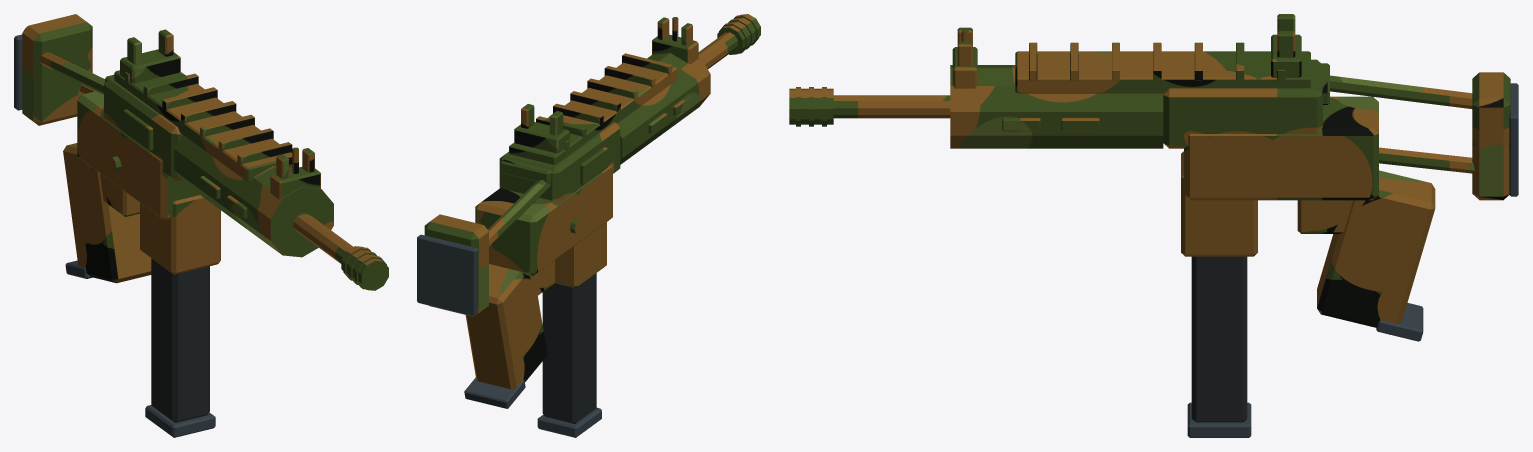
Rendered from MPX_RuralCamo.glb.
3 views of the same model, side by side, from view 1: azimuth 30°, elevation 25°; view 2: azimuth 150°, elevation 25°; view 3: azimuth 270°, elevation 25° (orthographic). The views are drawn at different scales.
Visible parts, largest first — view 1: FTF_Weapon_MPX_RuralCamo_Mesh; view 2: FTF_Weapon_MPX_RuralCamo_Mesh; view 3: FTF_Weapon_MPX_RuralCamo_Mesh.
Part boxes in pixels (<box>): FTF_Weapon_MPX_RuralCamo_Mesh: <box>14,14,388,437</box>; FTF_Weapon_MPX_RuralCamo_Mesh: <box>417,14,760,437</box>; FTF_Weapon_MPX_RuralCamo_Mesh: <box>789,14,1518,437</box>.
Bounding box in the file's own units: 0.1595 × 0.7525 × 1.23.
3 materials, 1 textured.
